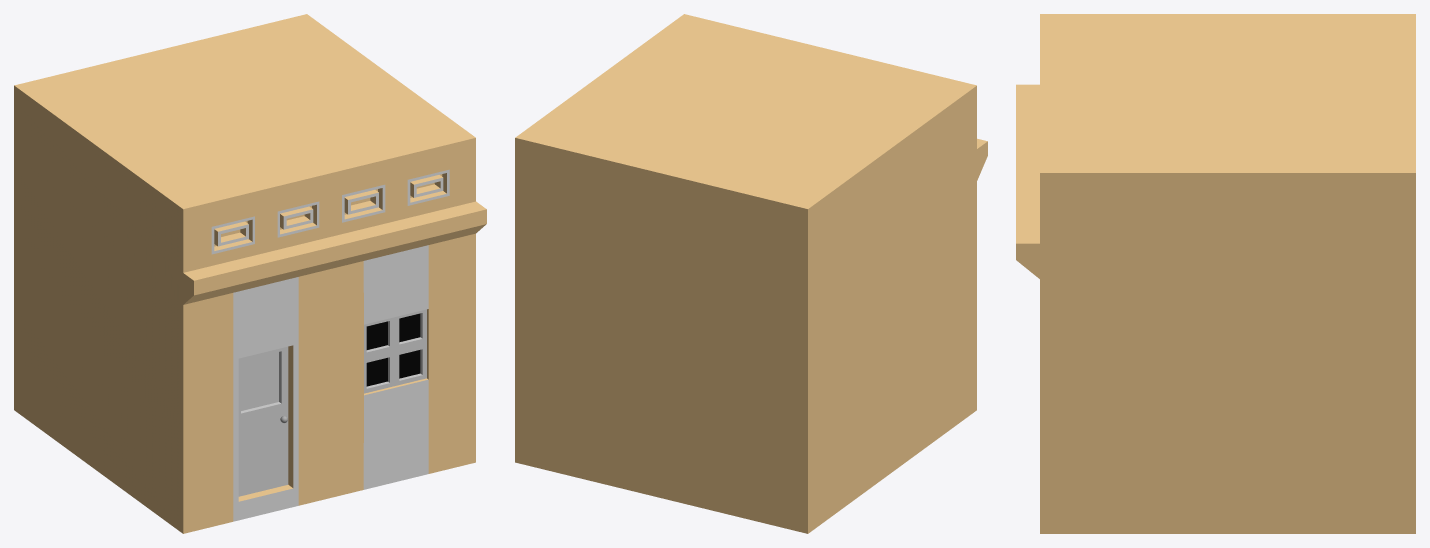
File: House_Beige .fbx
The picture shows the model from 3 angles, left to right: view 1: azimuth 30°, elevation 25°; view 2: azimuth 150°, elevation 25°; view 3: azimuth 270°, elevation 25°; orthographic projection. The views are drawn at different scales.
Parts seen in each view (by area): view 1: House.001; view 2: House.001; view 3: House.001.
Part boxes in pixels (x1,y1,x2,y2): House.001: (14,14,486,533); House.001: (515,14,987,533); House.001: (1016,14,1415,533).
Size of the model in its own units: 200 by 212 by 213.
